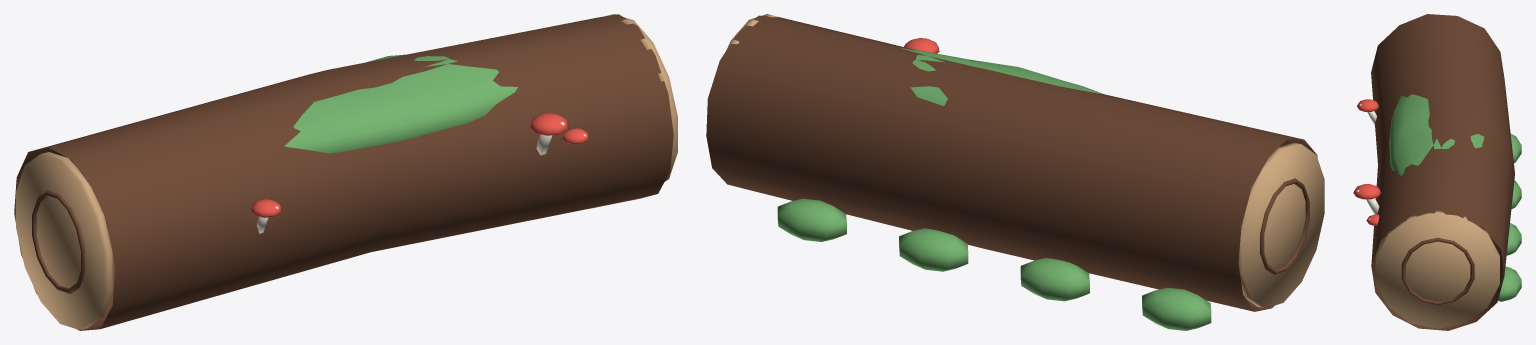
File: log.glb
The picture shows the model from 3 angles, left to right: view 1: azimuth 30°, elevation 25°; view 2: azimuth 150°, elevation 25°; view 3: azimuth 270°, elevation 25°; orthographic projection. The views are drawn at different scales.
Parts seen in each view (by area): view 1: log:mesh; view 2: log:mesh; view 3: log:mesh.
Part boxes in pixels (x1=…): log:mesh: x1=14, y1=14, x2=677, y2=330; log:mesh: x1=706, y1=14, x2=1324, y2=330; log:mesh: x1=1353, y1=14, x2=1521, y2=330.
Size of the model in its own units: 2.67 by 0.7924 by 0.9542.
